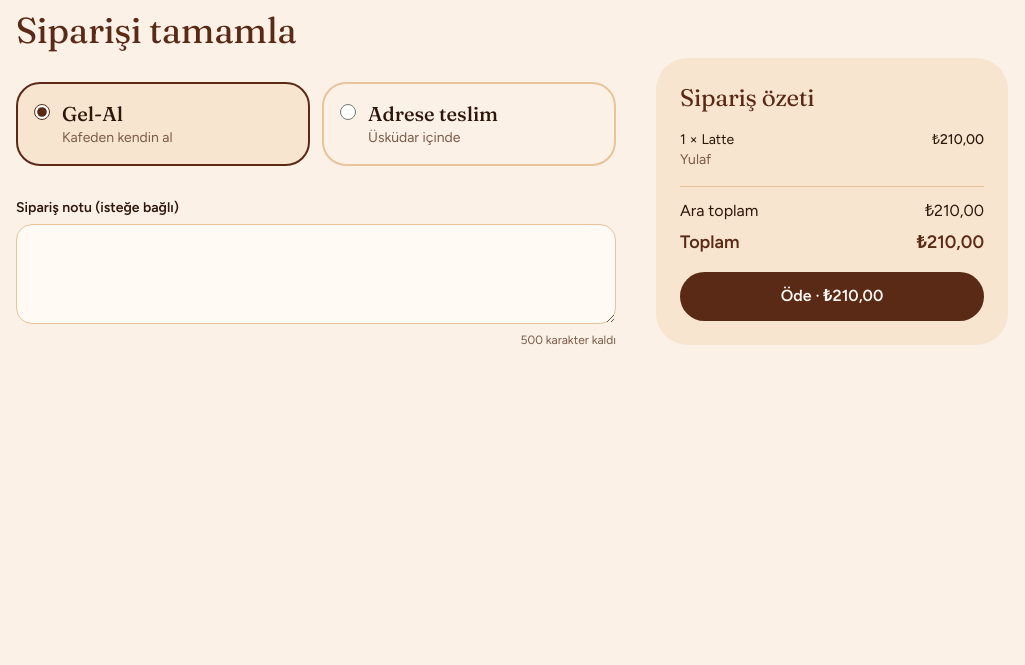
Test: CheckoutPage › selects the first saved address for delivery and quotes with it
The image size is (1025, 665).
Click the radio button labelled "Adrese teslim Üsküdar içinde" at (348, 112), box [340,104,356,120]
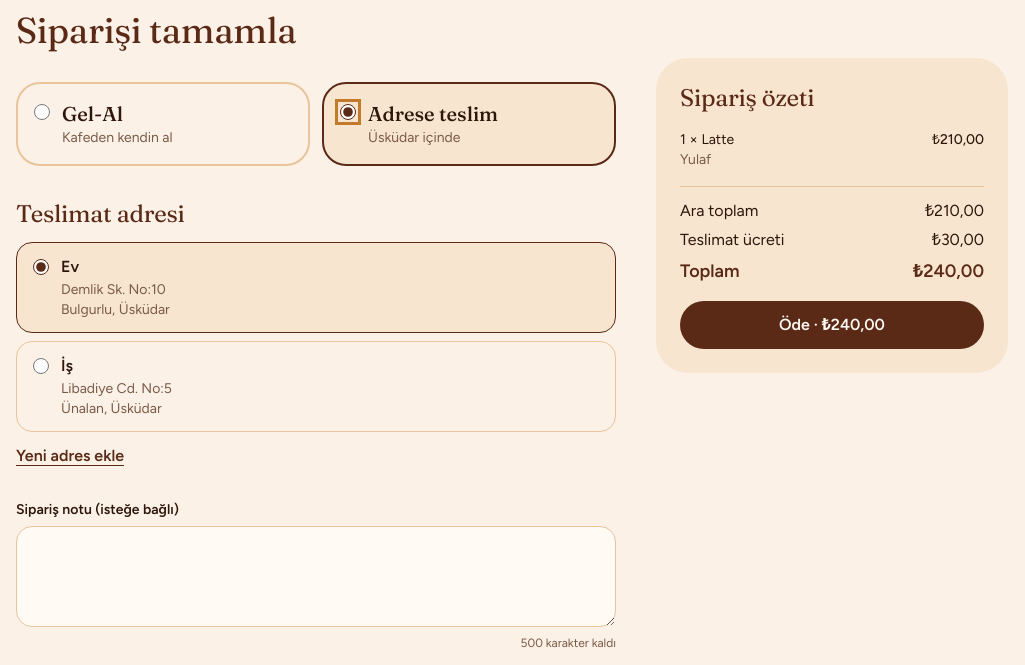
Expected: the radio button labelled "Ev Demlik Sk. No:10 Bulgurlu, Üsküdar" is checked, [33,259,49,275]
Expected: the text "Teslimat ücreti" is shown, [680,228,784,253]
